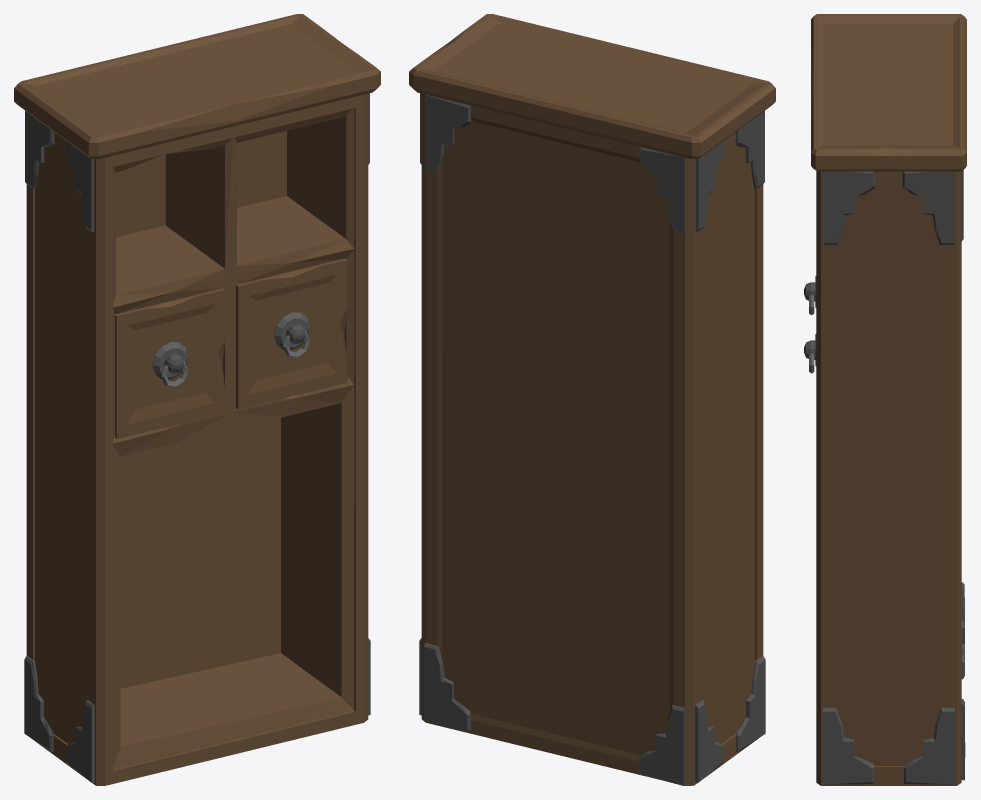
The model's file is Shelving_014.fbx.
3 views of the same model, side by side, from view 1: azimuth 30°, elevation 25°; view 2: azimuth 150°, elevation 25°; view 3: azimuth 270°, elevation 25° (orthographic). The views are drawn at different scales.
Visible parts, largest first — view 1: Shelving_014; view 2: Shelving_014; view 3: Shelving_014.
Part boxes in pixels (<box>): Shelving_014: <box>14,14,380,785</box>; Shelving_014: <box>409,14,775,785</box>; Shelving_014: <box>804,14,966,785</box>.
Size of the model in its own units: 0.5786 by 1.23 by 0.2849.
